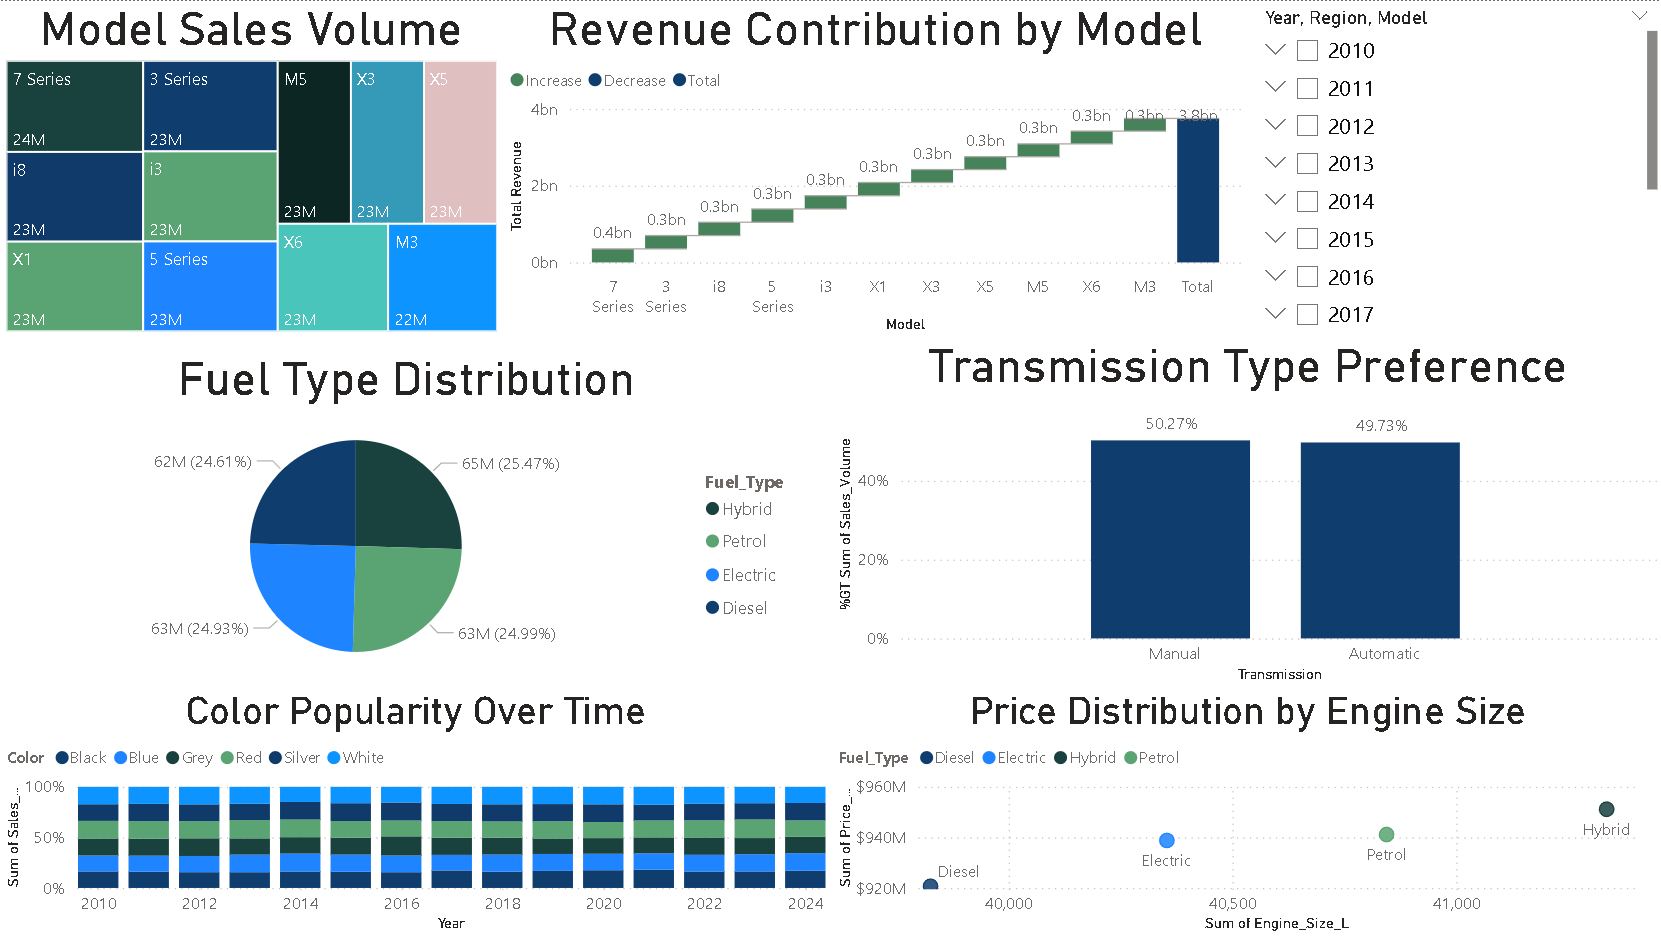

The dashboard page shown, as its layout file describes it:
{"tool":"powerbi","page":{"name":"Product Mix Analysis Dashboard","canvas":[1280,720],"ordinal":2},"visuals":[{"type":"treemap","title":"Model Sales Volume","fields":{"Group":["BMW sales data (2010-2024).Model"],"Values":["Sum(BMW sales data (2010-2024).Sales_Volume)"]},"box":[0,0,387.3,259.1],"z":0},{"type":"waterfallChart","title":"Revenue Contribution by Model","fields":{"Category":["BMW sales data (2010-2024).Model"],"Y":["BMW sales data (2010-2024).Total Revenue"]},"box":[387.3,0,572.7,259.1],"z":1000},{"type":"pieChart","title":"Fuel Type Distribution","fields":{"Category":["BMW sales data (2010-2024).Fuel_Type"],"Y":["Sum(BMW sales data (2010-2024).Sales_Volume)"]},"box":[0,269.1,625.5,259.1],"z":2000},{"type":"clusteredColumnChart","title":"Transmission Type Preference","fields":{"Category":["BMW sales data (2010-2024).Transmission"],"Y":["Sum(BMW sales data (2010-2024).Sales_Volume)"]},"box":[640,259.1,640,269.1],"z":3000},{"type":"hundredPercentStackedColumnChart","title":"Color Popularity Over Time","fields":{"Category":["BMW sales data (2010-2024).Year"],"Series":["BMW sales data (2010-2024).Color"],"Y":["Sum(BMW sales data (2010-2024).Sales_Volume)"]},"box":[0,528.2,640,191.8],"z":4000},{"type":"scatterChart","title":"Price Distribution by Engine Size","fields":{"X":["Sum(BMW sales data (2010-2024).Engine_Size_L)"],"Y":["Sum(BMW sales data (2010-2024).Price_USD)"],"Series":["BMW sales data (2010-2024).Fuel_Type"],"Size":["Sum(BMW sales data (2010-2024).Sales_Volume)"]},"box":[640,528.2,640,191.8],"z":5000},{"type":"slicer","fields":{"Values":["BMW sales data (2010-2024).Year","BMW sales data (2010-2024).Region","BMW sales data (2010-2024).Model"]},"box":[960,0,320,259.1],"z":6000}]}

Visuals, with their boxes in screenshot pixels (x1, y1, x2, y2), scaled from the page's 1280x720 canvas onto the 1661x937 screenshot:
"Model Sales Volume" treemap: <box>0,0,503,337</box>
"Revenue Contribution by Model" waterfallChart: <box>503,0,1246,337</box>
"Fuel Type Distribution" pieChart: <box>0,350,812,687</box>
"Transmission Type Preference" clusteredColumnChart: <box>830,337,1660,687</box>
"Color Popularity Over Time" hundredPercentStackedColumnChart: <box>0,687,830,936</box>
"Price Distribution by Engine Size" scatterChart: <box>830,687,1660,936</box>
slicer - BMW sales data (2010-2024).Year x BMW sales data (2010-2024).Region: <box>1246,0,1660,337</box>
